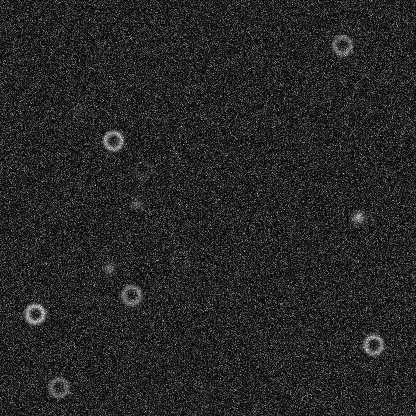Ring: (167, 247, 191, 271), (119, 282, 143, 306), (101, 128, 125, 152), (46, 375, 70, 399), (22, 301, 46, 325), (130, 157, 154, 181), (361, 332, 385, 356), (330, 33, 354, 57)
Spot: (101, 260, 117, 276), (350, 209, 366, 225), (128, 196, 144, 212), (68, 102, 84, 118)
